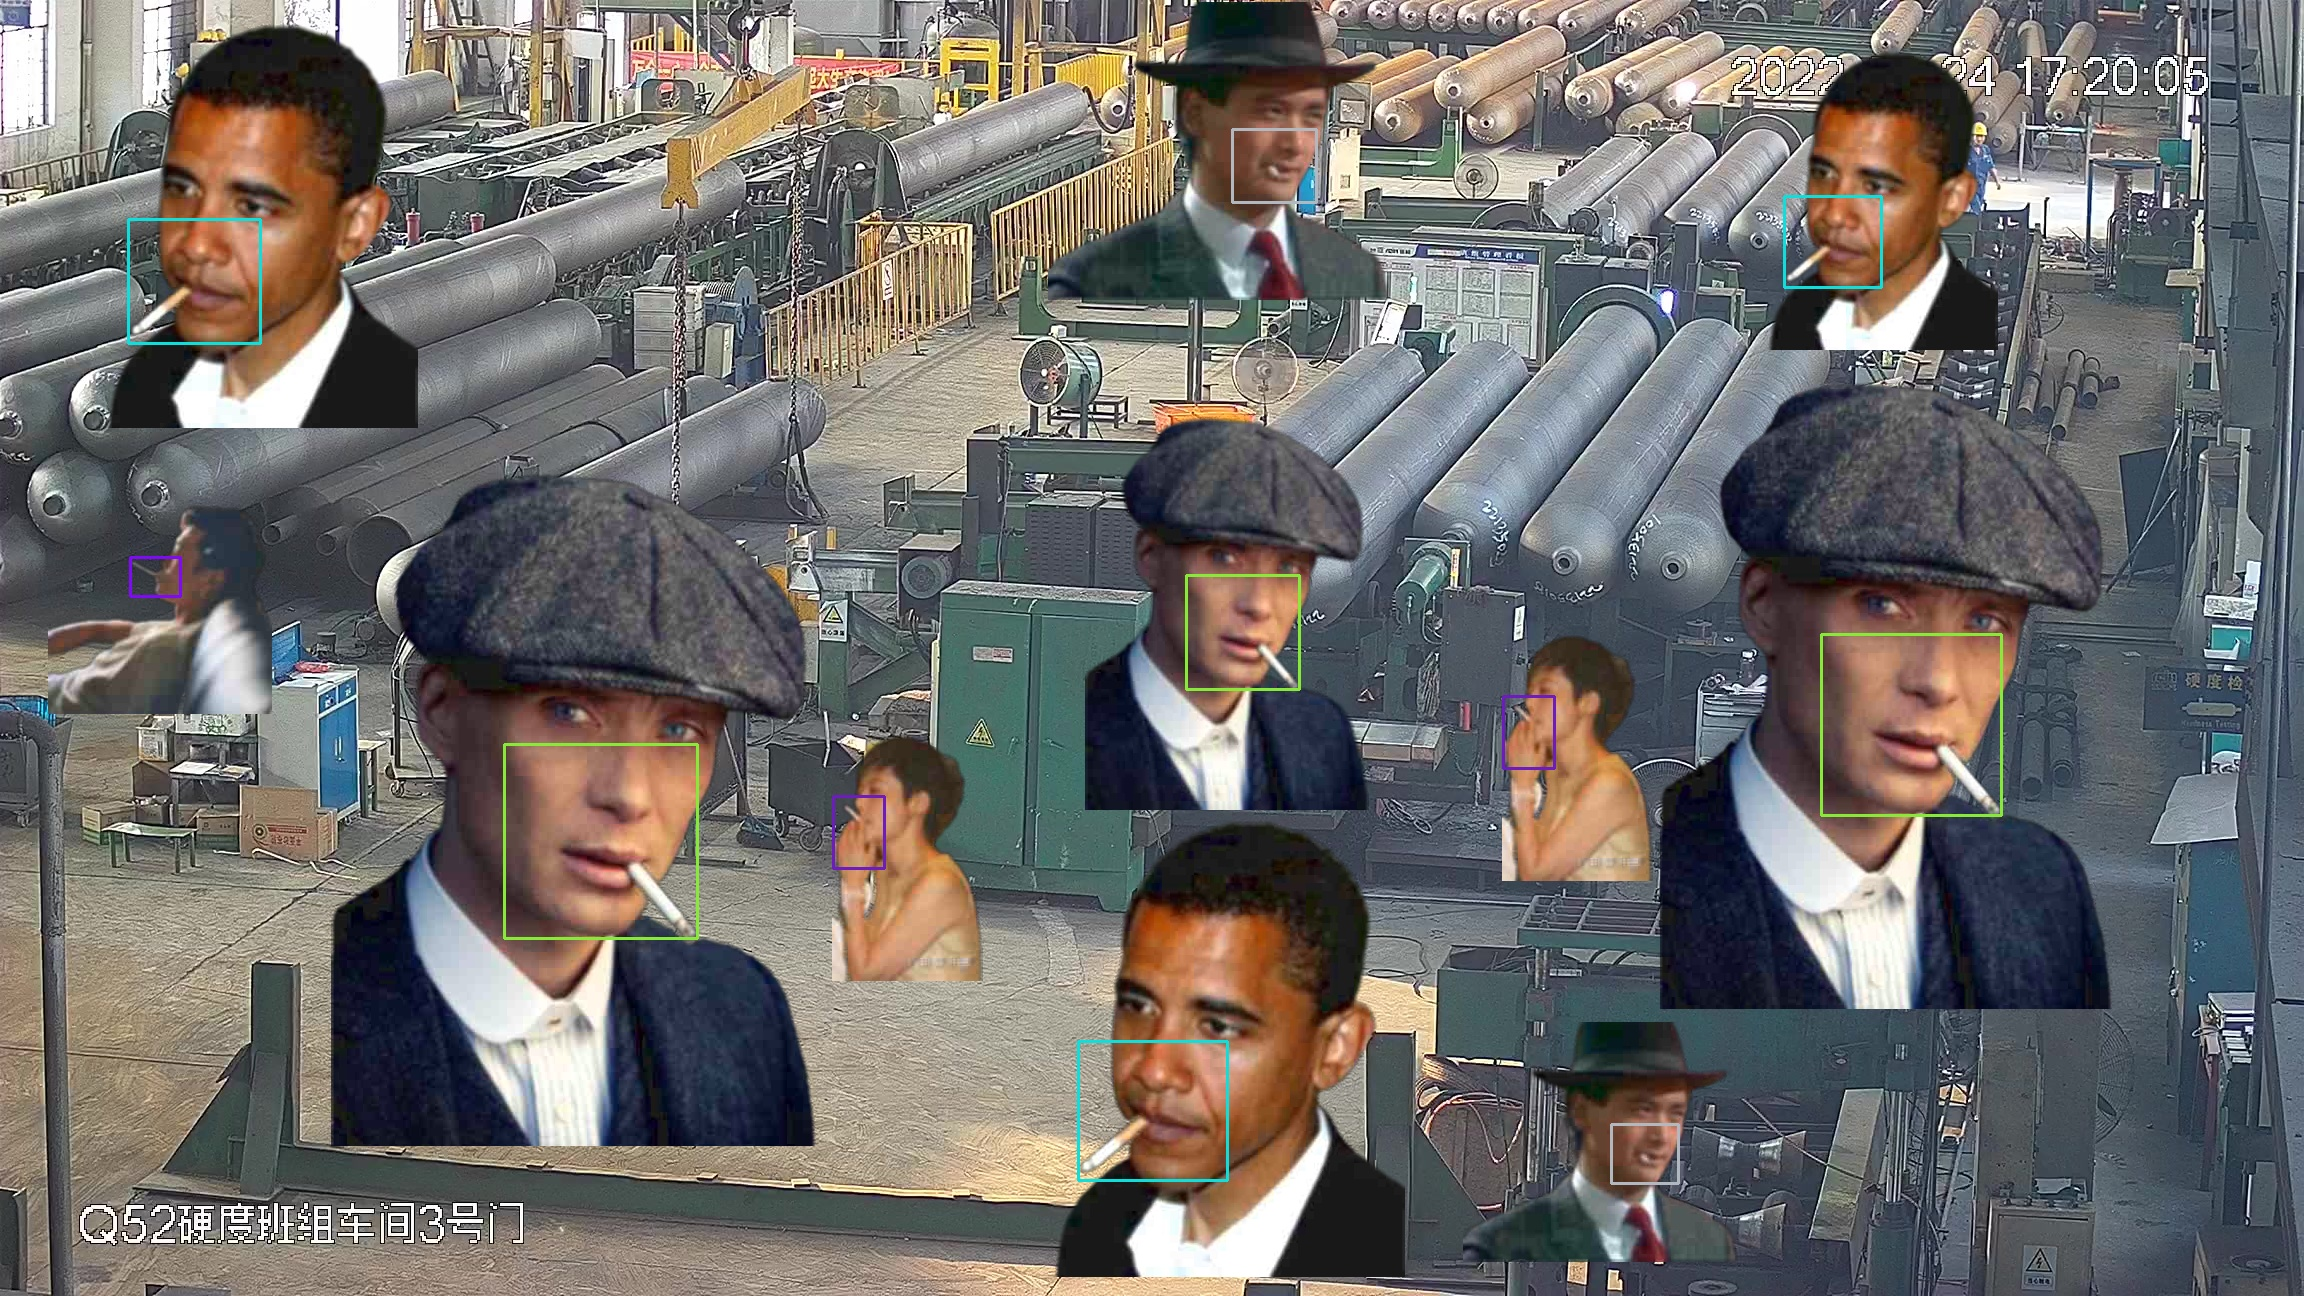smoke: (503, 744, 696, 938), (1821, 635, 2002, 815), (1078, 1041, 1226, 1180), (128, 218, 260, 343), (1185, 574, 1299, 688), (1783, 196, 1881, 286), (1233, 130, 1317, 203), (1611, 1124, 1677, 1184), (832, 796, 885, 869), (1503, 696, 1554, 767), (130, 557, 180, 597)
